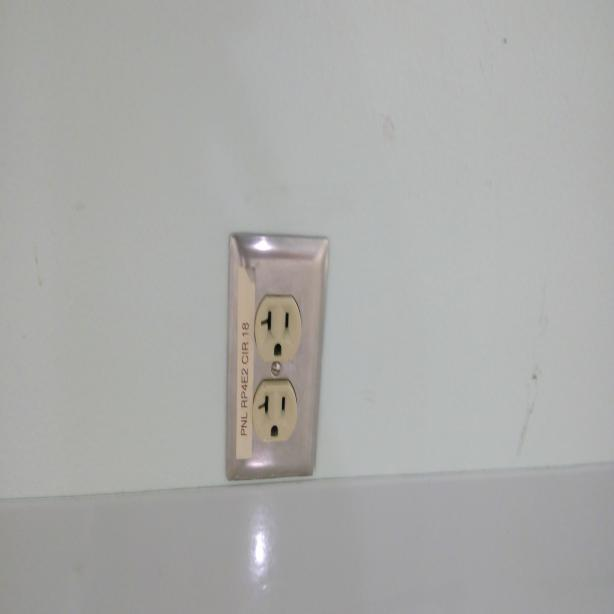typeb: (258, 295, 298, 361), (257, 387, 293, 439)
